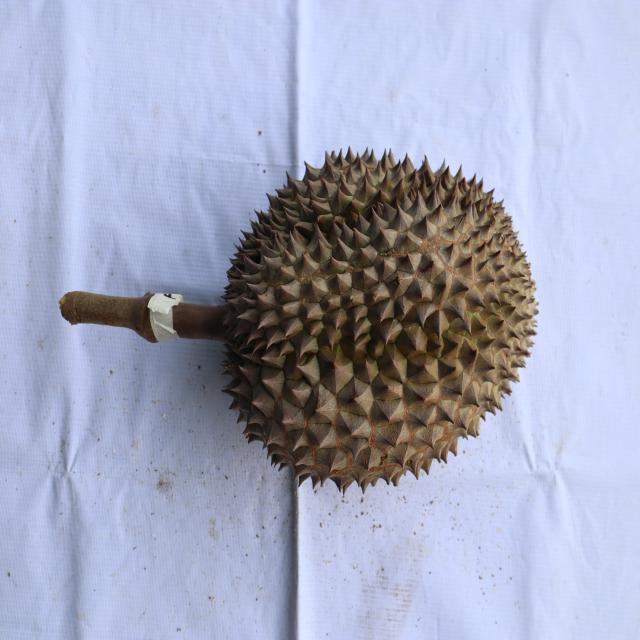mature: (225, 145, 543, 498)
